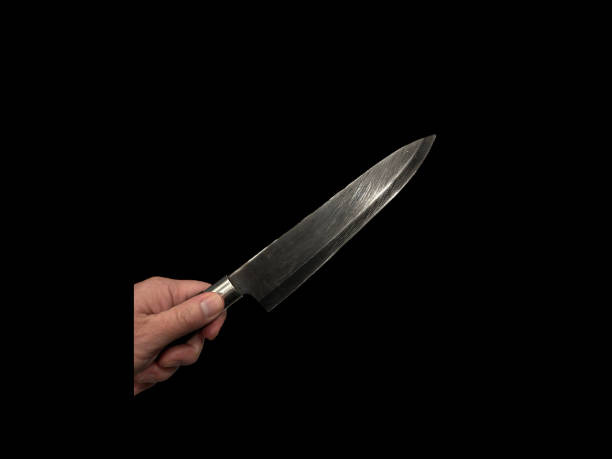knife: (199, 131, 439, 318)
